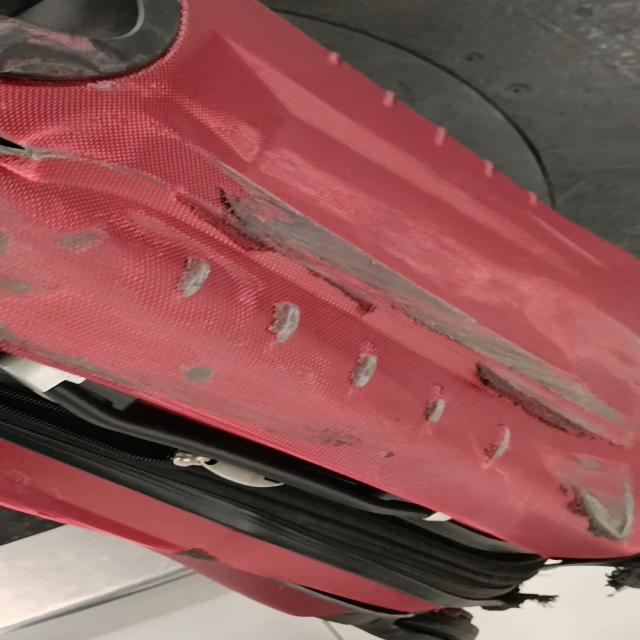Damage-bag: (193, 160, 633, 444), (551, 459, 633, 542), (282, 582, 422, 618), (540, 555, 640, 591), (0, 134, 91, 161), (480, 588, 558, 611), (98, 162, 164, 186), (178, 259, 211, 298), (269, 302, 300, 341), (351, 349, 378, 388), (487, 426, 511, 459), (424, 389, 447, 423), (167, 549, 216, 560)
